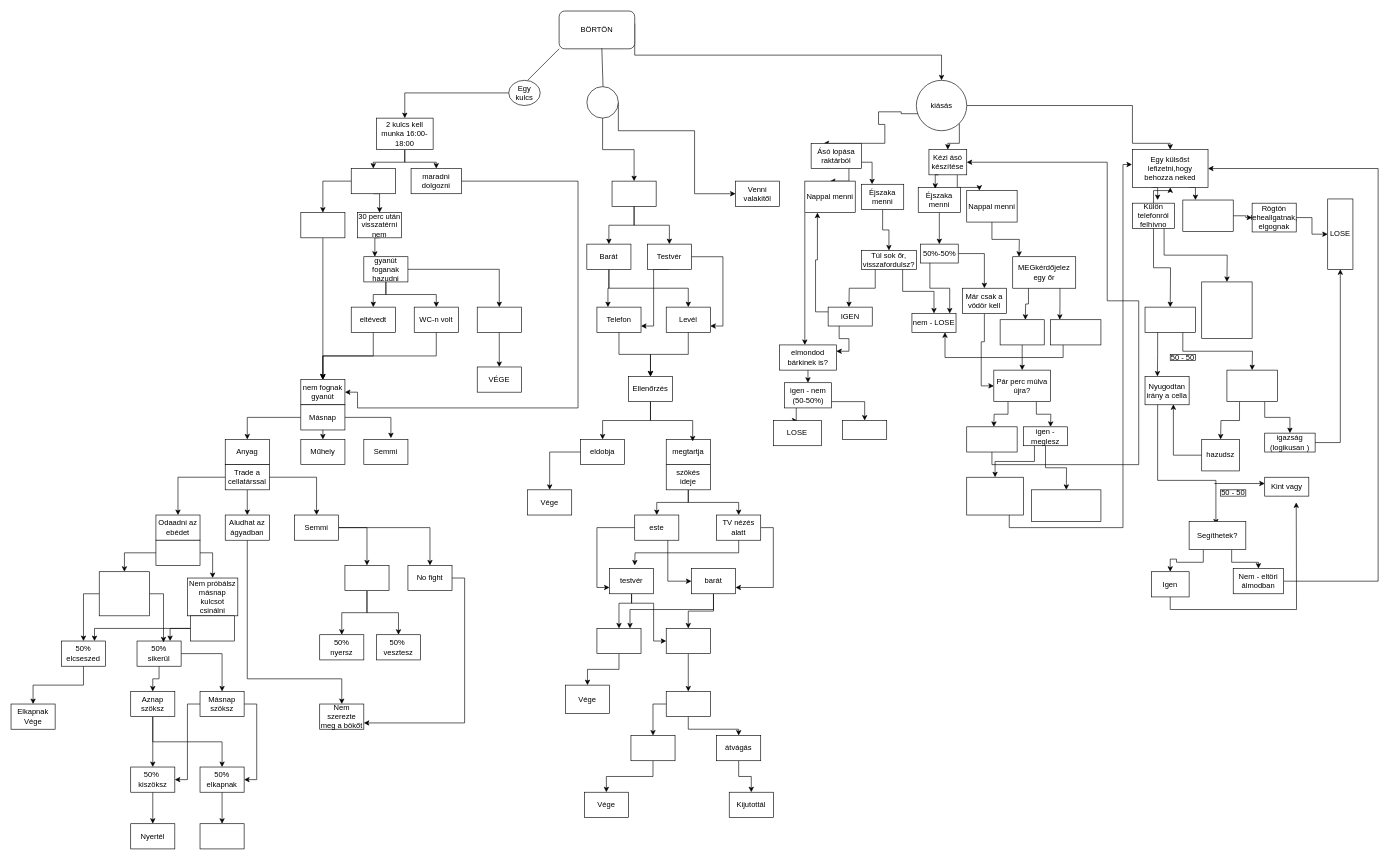
This 1394x860 diagram has some shape labels left out. Each missing label, with the centre of its shape:
30 perc után visszatérni igen: point (322, 225)
60% - 40% kijutsz: point (1066, 505)
Benti telefont hasznalsz: point (1207, 215)
Csempészni a vágót: point (633, 193)
Eladod bent pénzért és felhísz egy külsőst: point (994, 496)
eljut a kerítésig: point (688, 704)
elszökni a tömegből: point (373, 181)
Fight: point (366, 578)
futás: point (618, 641)
Holnapután: point (212, 628)
Igazat mond: point (499, 319)
kerítés átvágás: point (602, 102)
kifizeted, behozza: point (1169, 319)
kúszás: point (688, 641)
Letagadod: point (1075, 332)
megvan: point (864, 429)
mit akar azzal?: point (1251, 385)
Másnap próbálsz kulcsot csinálni: point (124, 593)
Nem - majd máskor: point (991, 439)
Tiéd a bökőt: point (177, 552)
Vagy őt kint elkaoják, új tervet kell szőnöd (1 , 2 , v. újrakezdi: point (1226, 310)
Vesztettél: point (221, 836)
Visszarakod: point (1021, 332)
átmászás: point (652, 748)
